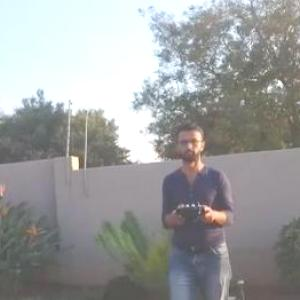follow: (156, 117, 241, 299)
